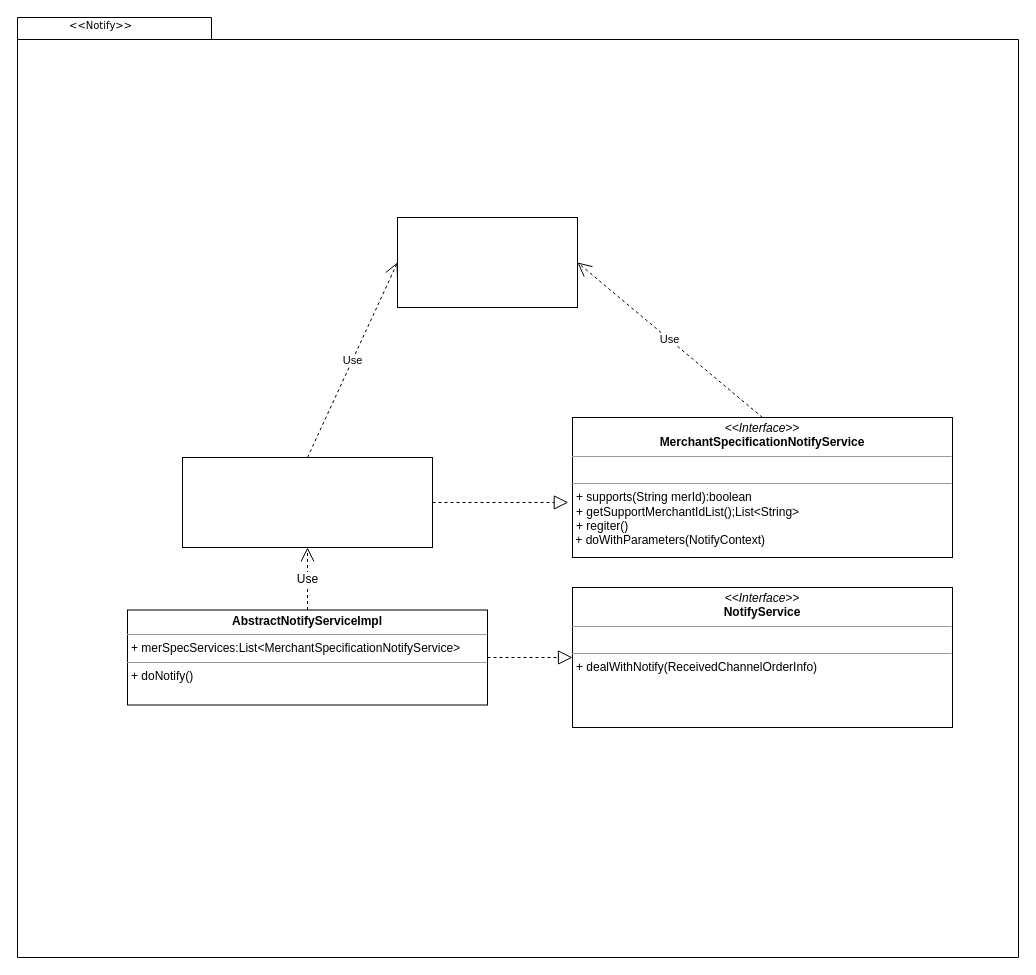
Image size: 1036x975. Some labels were removed from this diagram. The shapes that lost their labels are listed below. From the top down, each one's centre as x and y in pixels, then its label:
At pixel 487 262: "NotifyContext + header: Map<String,String> + + get(): Type + set(): Type".
At pixel 307 502: "GmSpecificationNotifyService Impl + SPEC_CODE: String + ...".
